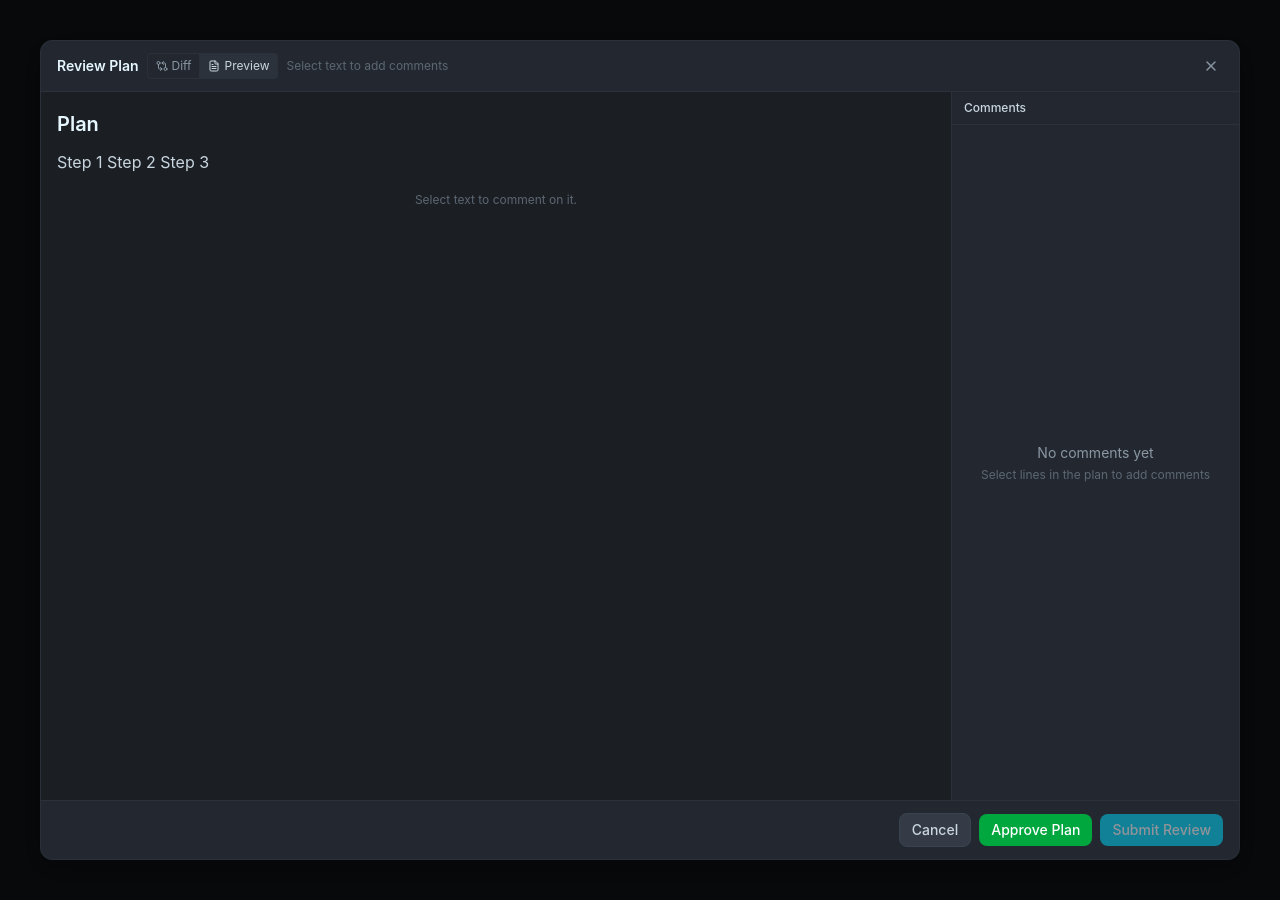
PlanReviewDialog › view mode toggle › shows different help text based on view mode
Expected: the text "Select text to add comments" is shown, [286, 58, 448, 74]
# Switch to diff view
What coordinates should you click on to do the following:
click the button "Diff"
I would click on:
 (174, 66)
Its box is [148, 54, 200, 78].
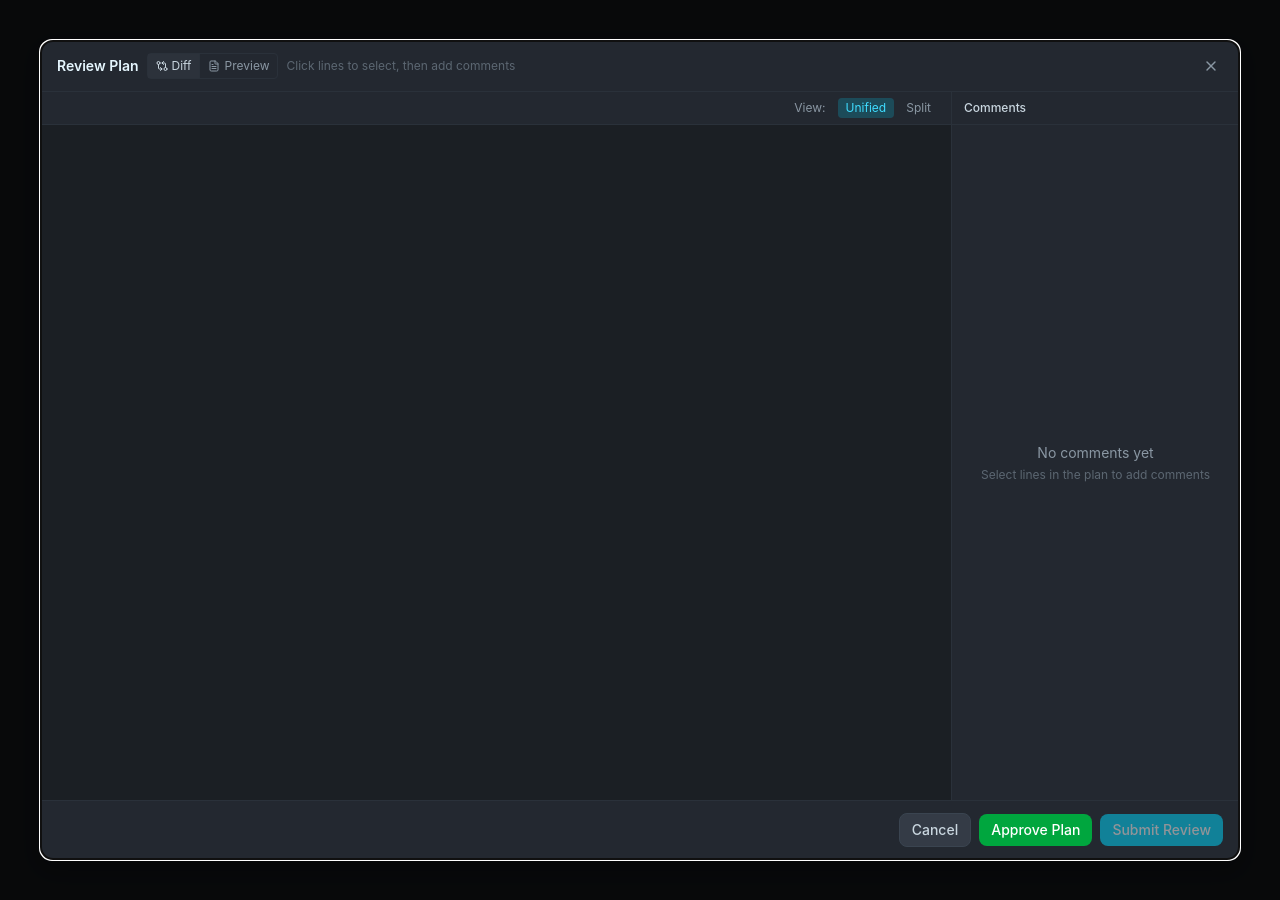
Result: the text "Click lines to select, then add comments" is shown at [286, 58, 515, 74]
